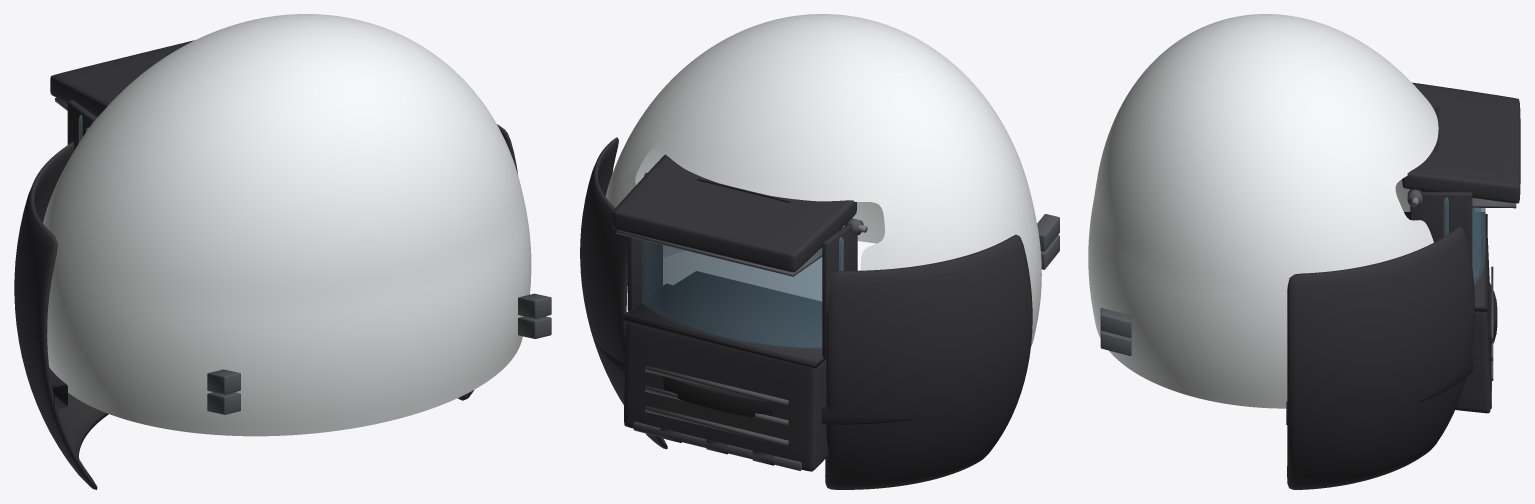
Rendered from helmet_model_v2.glb.
The picture shows the model from 3 angles, left to right: view 1: azimuth 30°, elevation 25°; view 2: azimuth 150°, elevation 25°; view 3: azimuth 270°, elevation 25°; orthographic projection. The views are drawn at different scales.
Visible parts, largest first — view 1: Shell, Cheek_L, Top_Peak, VisorBracket_L, Fin_L0, Fin_R0, Fin_R1, Fin_L1; view 2: Shell, Cheek_L, Chin_Guard, Top_Peak, Visor, Cheek_R, ChinStrip, Gasket_Bot, LowerTrim, VisorBracket_R, VisorBracket_L, ChinScoop (+4 smaller); view 3: Shell, Cheek_R, Top_Peak, Chin_Guard, VisorBracket_R, Visor, ChinStrip, LowerTrim, Fin_R0, Fin_R1.
Part boxes in pixels (x1,y1,x2,y2): Shell: (43, 14, 531, 436); Cheek_L: (14, 142, 108, 489); Top_Peak: (50, 40, 194, 117); VisorBracket_L: (67, 100, 97, 150); Fin_L0: (207, 369, 240, 394); Fin_R0: (518, 293, 551, 318); Fin_R1: (518, 316, 551, 338); Fin_L1: (207, 392, 240, 414); Shell: (605, 14, 1041, 346); Cheek_L: (825, 234, 1032, 489); Chin_Guard: (624, 322, 828, 471); Top_Peak: (612, 154, 856, 272); Visor: (642, 237, 843, 349); Cheek_R: (580, 137, 667, 449); ChinStrip: (624, 284, 825, 365); Gasket_Bot: (623, 271, 822, 368); LowerTrim: (595, 341, 914, 424); VisorBracket_R: (627, 236, 662, 310); VisorBracket_L: (822, 223, 857, 359); ChinScoop: (633, 421, 801, 470); Shell: (1088, 14, 1438, 408); Cheek_R: (1287, 226, 1474, 489); Top_Peak: (1402, 82, 1520, 203); Chin_Guard: (1455, 238, 1491, 413); VisorBracket_R: (1410, 192, 1472, 264); Visor: (1443, 197, 1485, 285); ChinStrip: (1404, 212, 1485, 310); LowerTrim: (1286, 282, 1497, 424); Fin_R0: (1100, 308, 1131, 337); Fin_R1: (1100, 330, 1131, 355).
Size of the model in its own units: 2.22 by 1.88 by 1.96.
